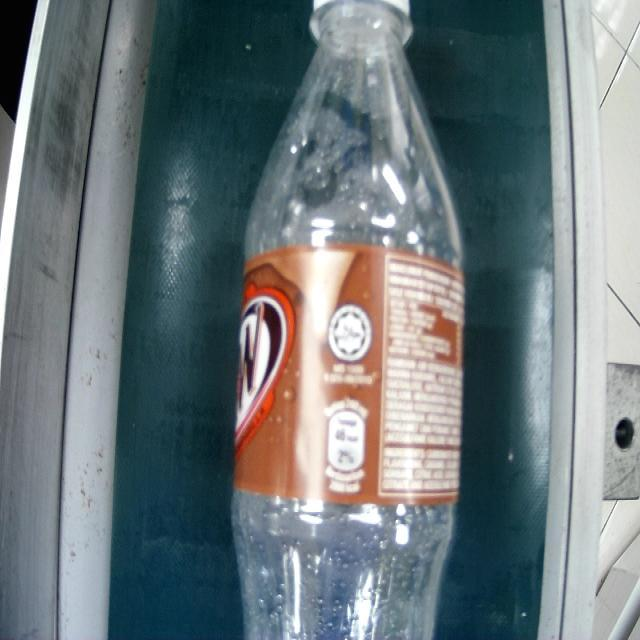Pet_Bottle: (232, 13, 464, 640)
